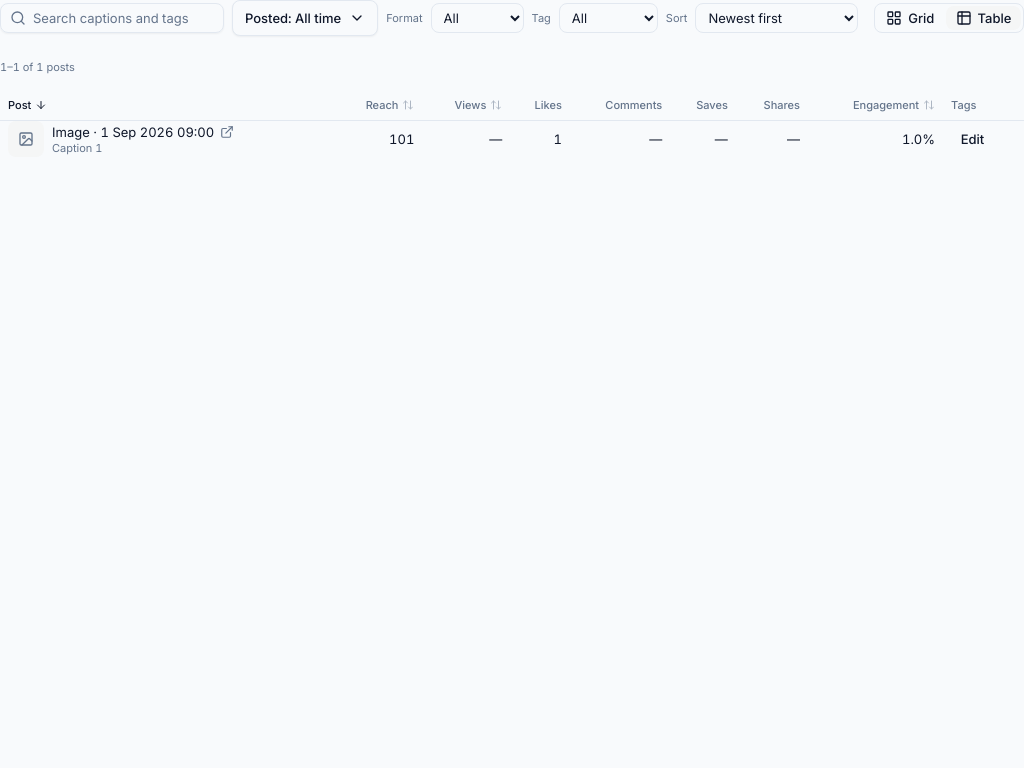
Test case: PostsTab: tags › tag picker: saves the chosen tags through the server action; an error key is translated
Click the button with aria-label "Edit tags of": (972,139) [951,127,994,151]
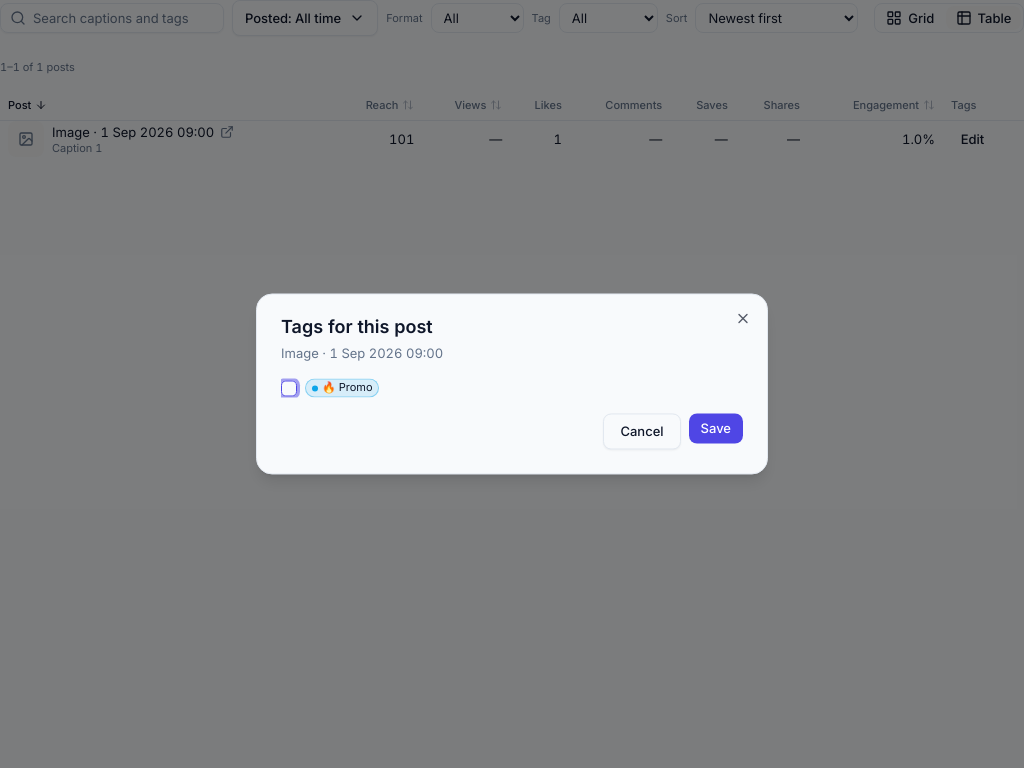
Click the checkbox: (289,388) [281,380,297,396]
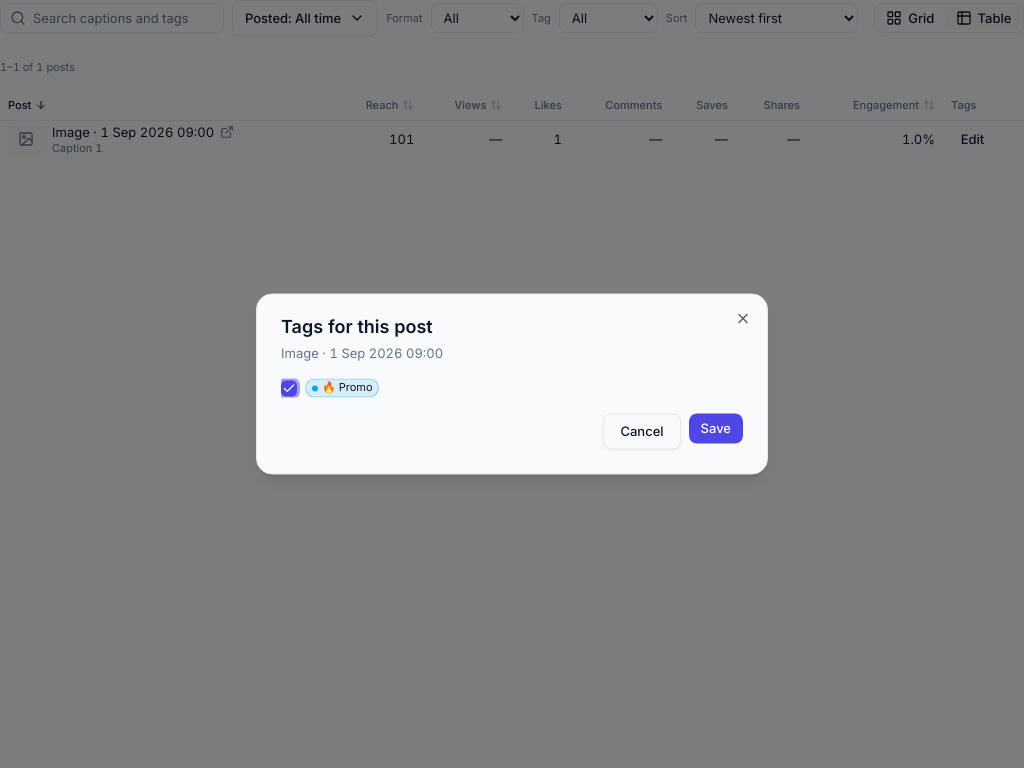
Click the button "Save": (716,428) [688,414,743,444]
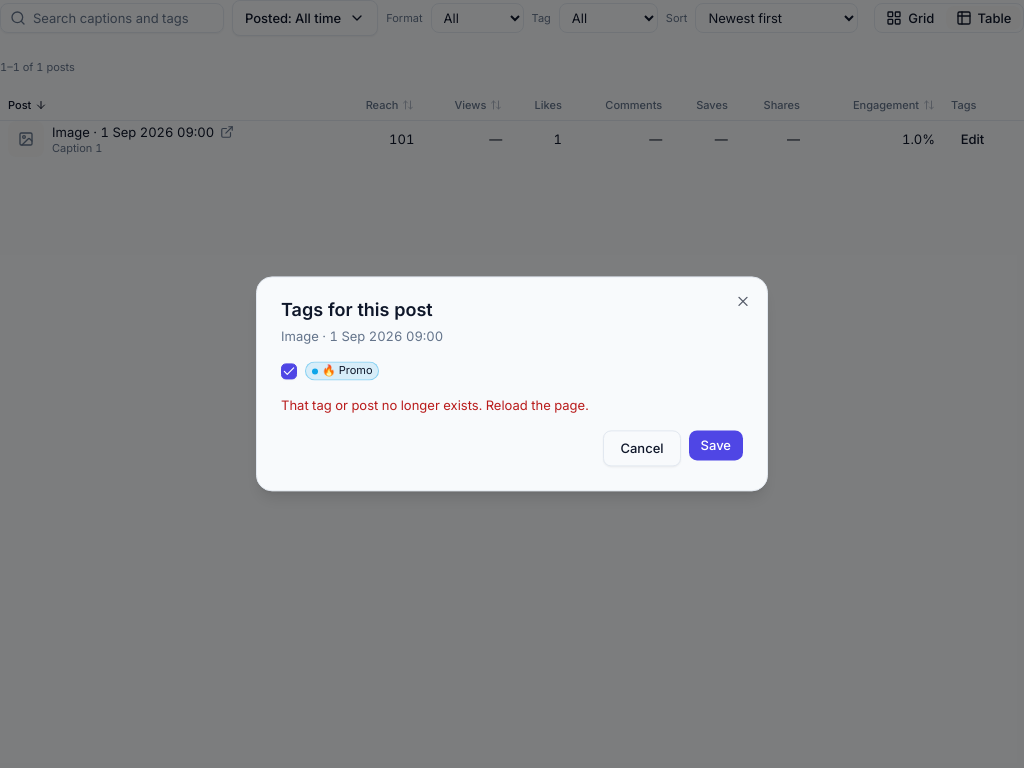
Check: the message reads "That tag or post no longer exists. Reload the page.", box [281,397,589,413]
Click the button "Save": (716,446) [688,431,743,461]
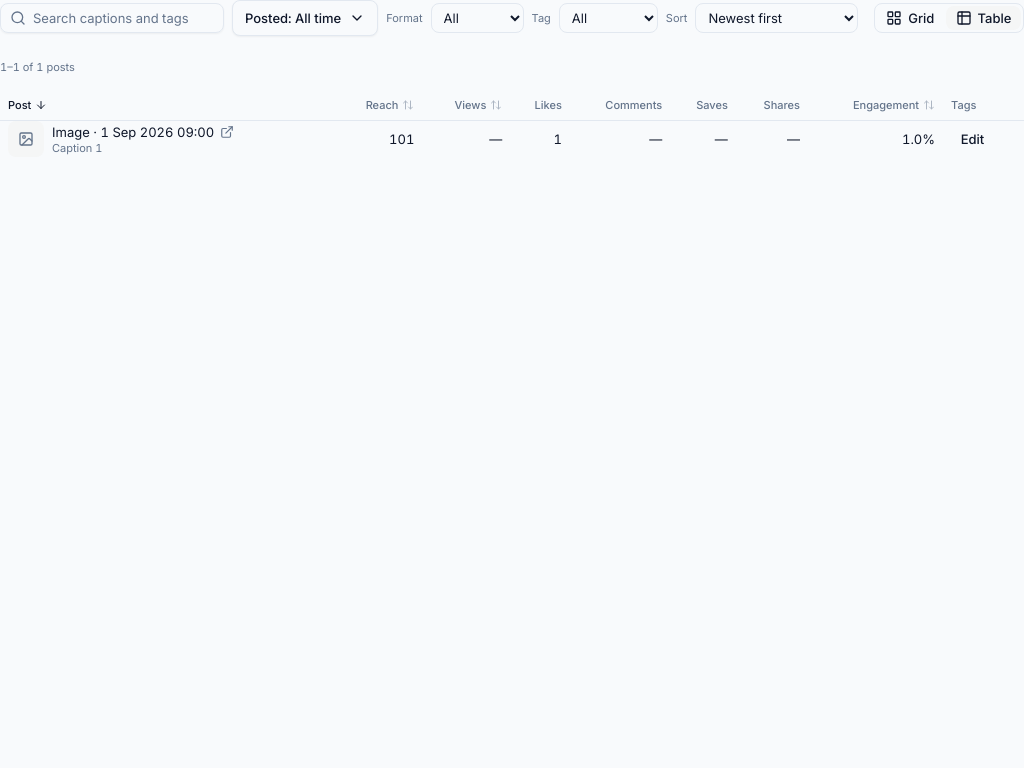
Check: the dialog is gone
